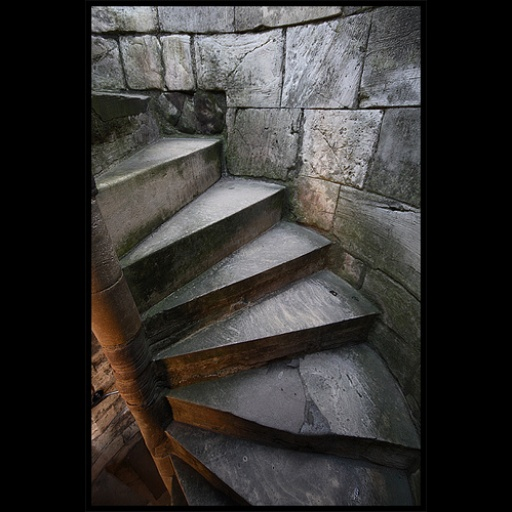Stairs: (93, 139, 419, 506)
